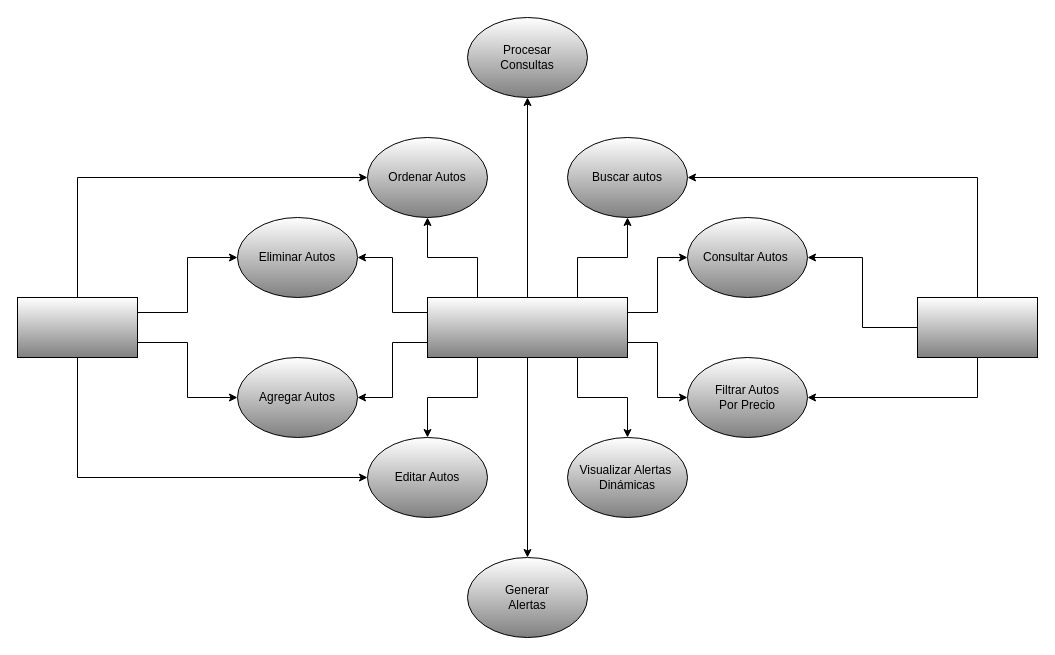
This 1055x655 diagram has some shape labels left out. The centre of each missing label's shape, as x and y in pixels:
ADMINISTRADOR: (77,327)
CLIENTES: (977,327)
SISTEMA DE GESTIÓN DE BMW: (527,327)
